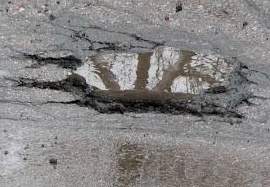pothole: (27, 33, 251, 126)
